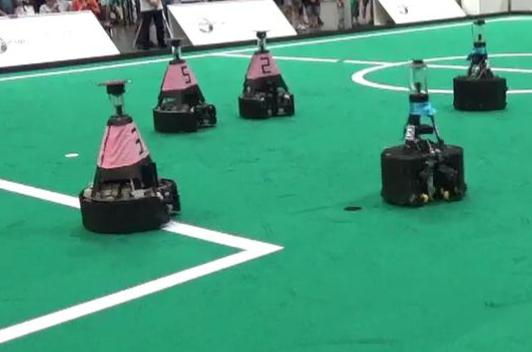robot: (76, 79, 183, 236), (375, 57, 473, 207), (150, 35, 219, 132), (232, 27, 298, 120), (452, 15, 511, 114)
